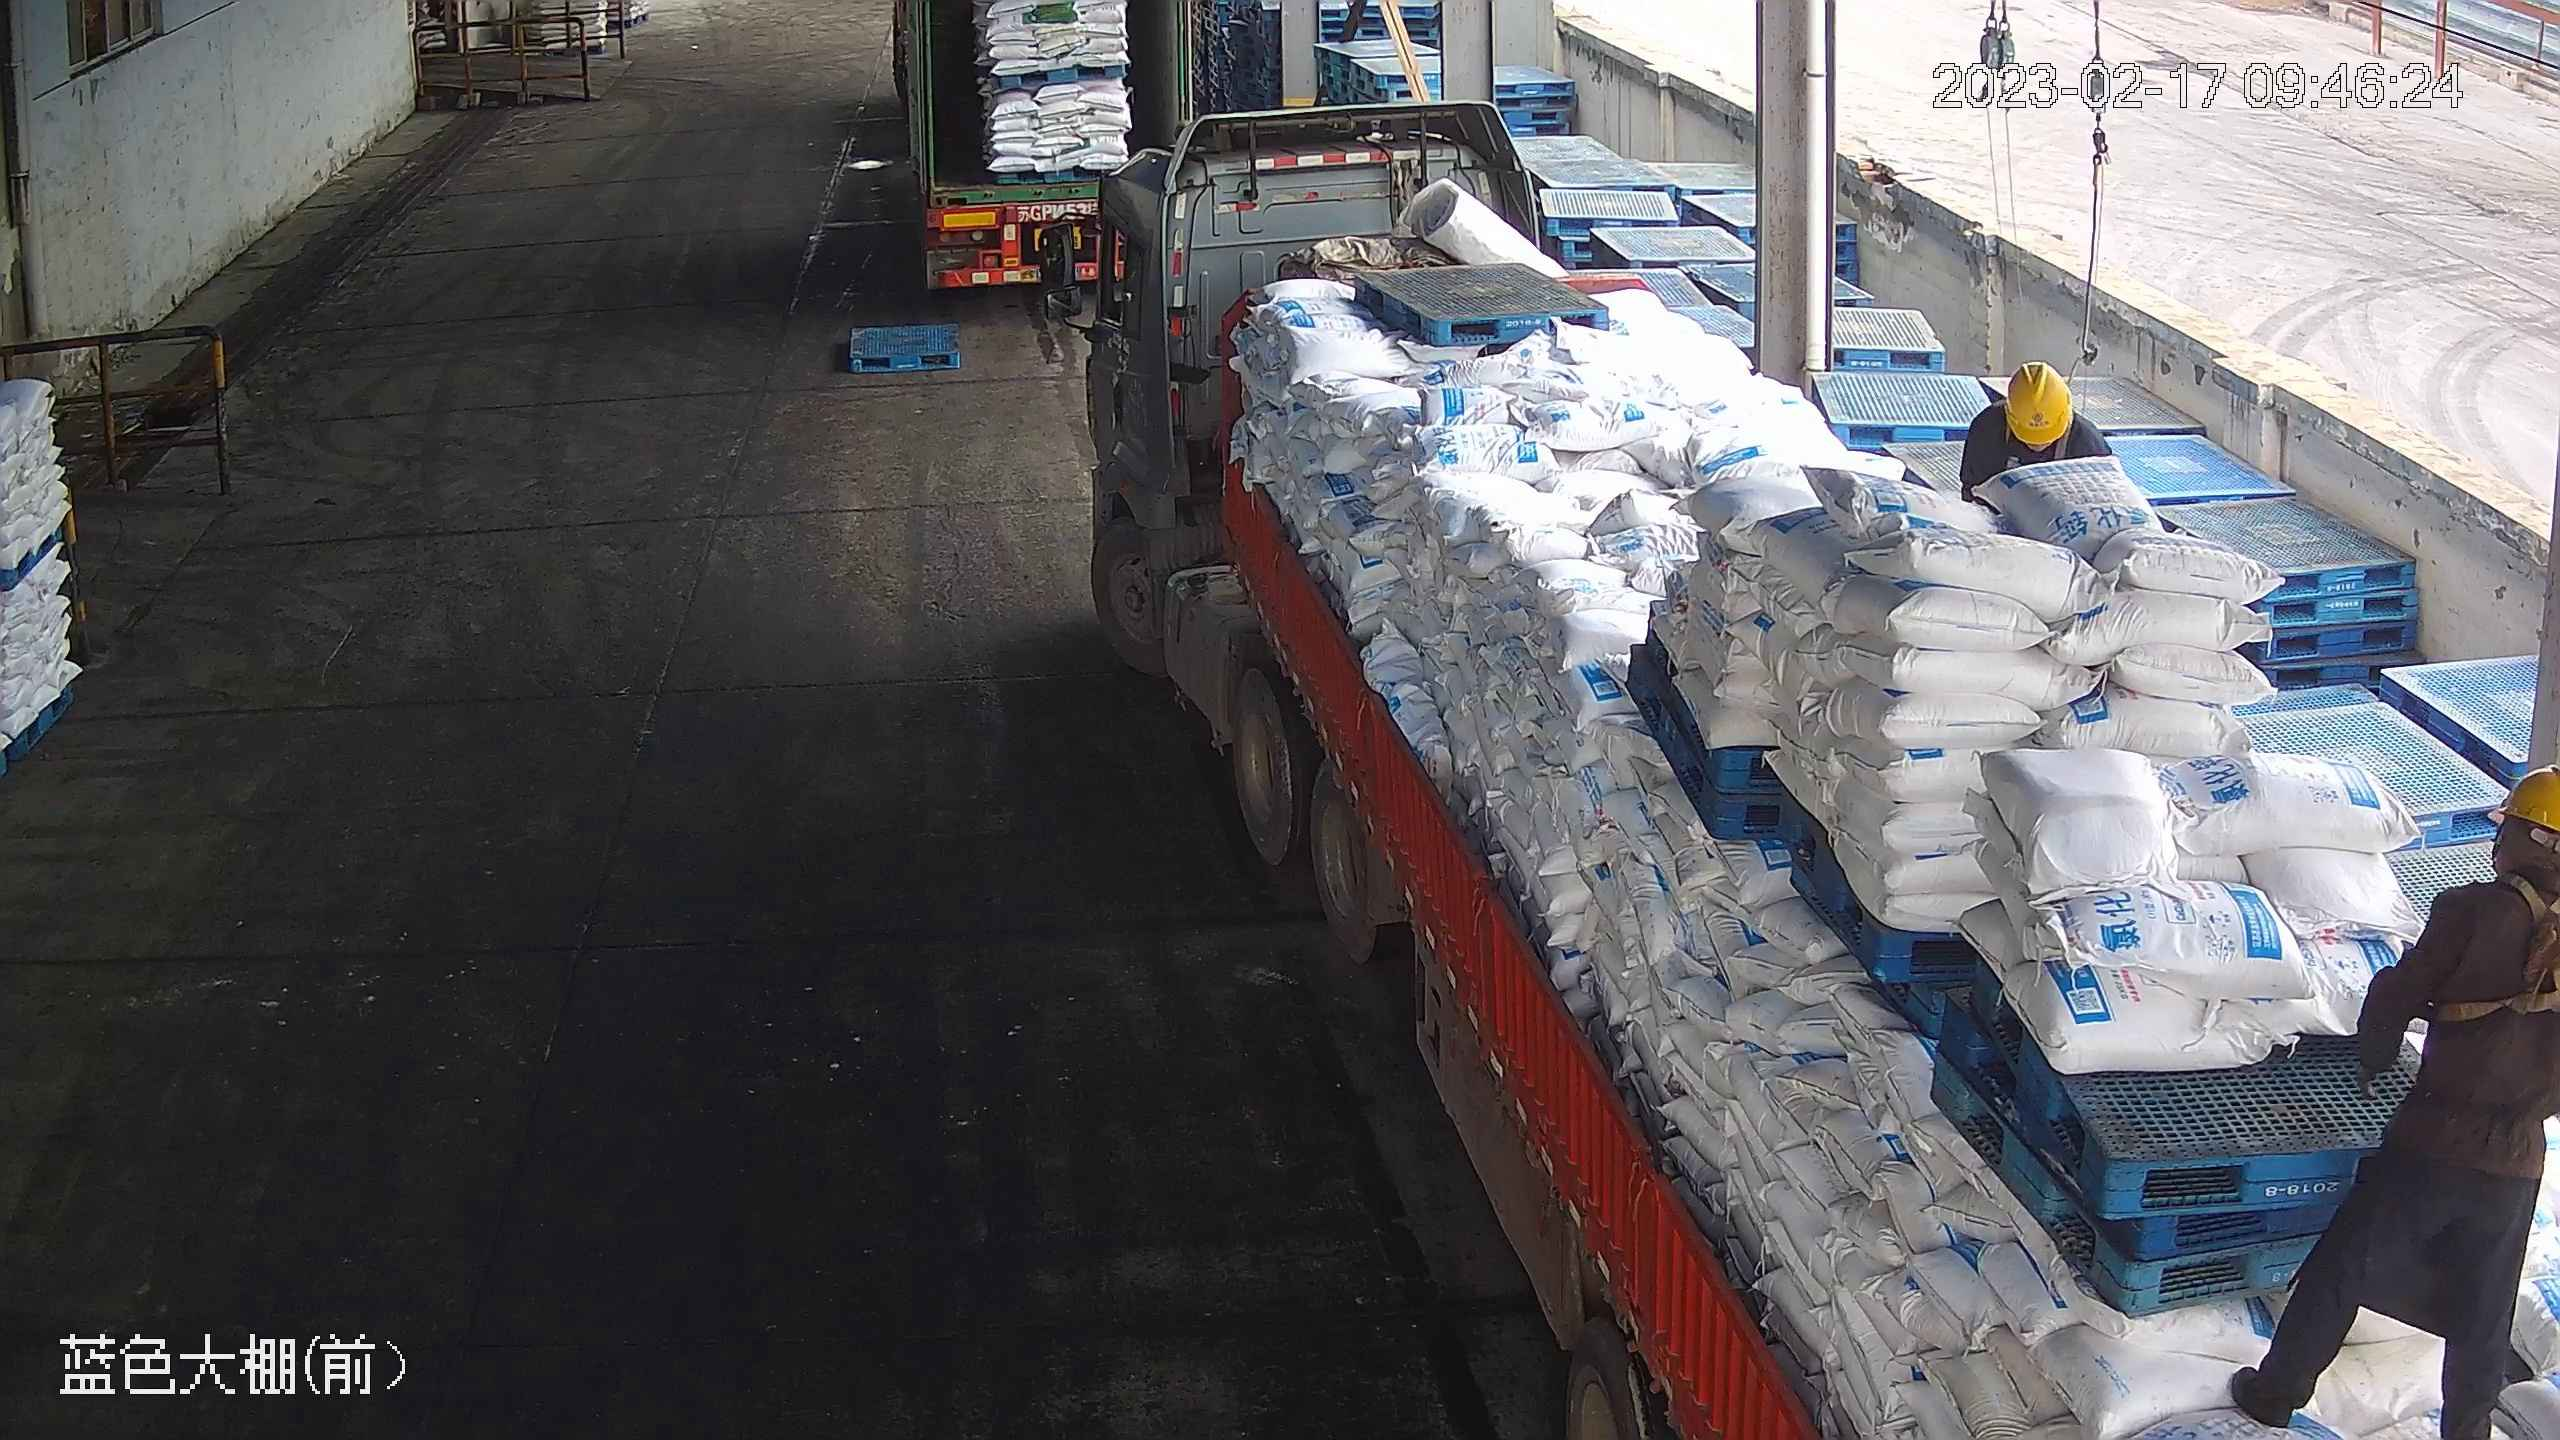belt: (2442, 878, 2560, 1021), (2002, 415, 2066, 471)
head: (2410, 761, 2560, 983), (1969, 359, 2106, 461)
helmet: (2493, 760, 2560, 851), (2001, 358, 2070, 439)
people: (2223, 761, 2560, 1436)
truck: (1061, 152, 2553, 1438), (885, 8, 1220, 303)
